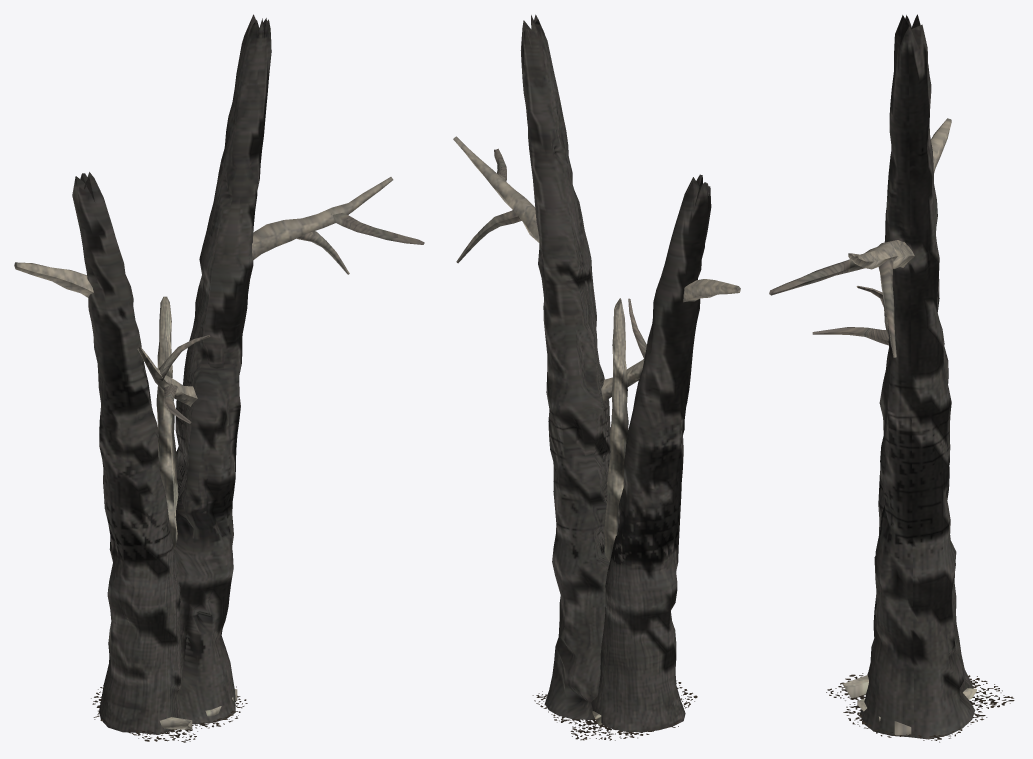
Rendered from tree_split_trunk.glb.
3 renders of one model, left to right at view 1: azimuth 30°, elevation 25°; view 2: azimuth 150°, elevation 25°; view 3: azimuth 270°, elevation 25°, orthographic. The views are drawn at different scales.
Parts seen in each view (by area): view 1: tree_split_trunk; view 2: tree_split_trunk; view 3: tree_split_trunk.
Part boxes in pixels (bbox=[...]): tree_split_trunk: bbox=[14, 14, 424, 742]; tree_split_trunk: bbox=[453, 14, 740, 740]; tree_split_trunk: bbox=[769, 14, 1014, 742].
Size of the model in its own units: 2.12 by 4.11 by 1.26.
Materials: 2 (2 with a texture image).
